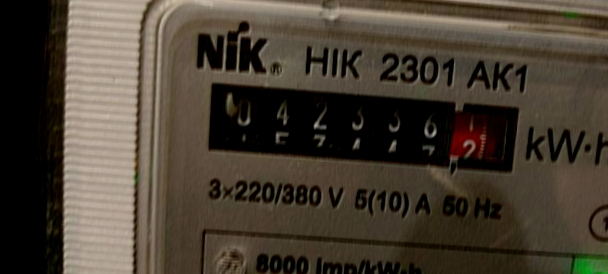0: (234, 94, 256, 129)
1: (464, 107, 478, 134)
2: (310, 97, 334, 132), (459, 138, 478, 160)
3: (347, 99, 368, 132), (386, 102, 405, 135)
4: (274, 94, 294, 127)
6: (420, 107, 443, 142)
screen: (193, 68, 534, 187)
